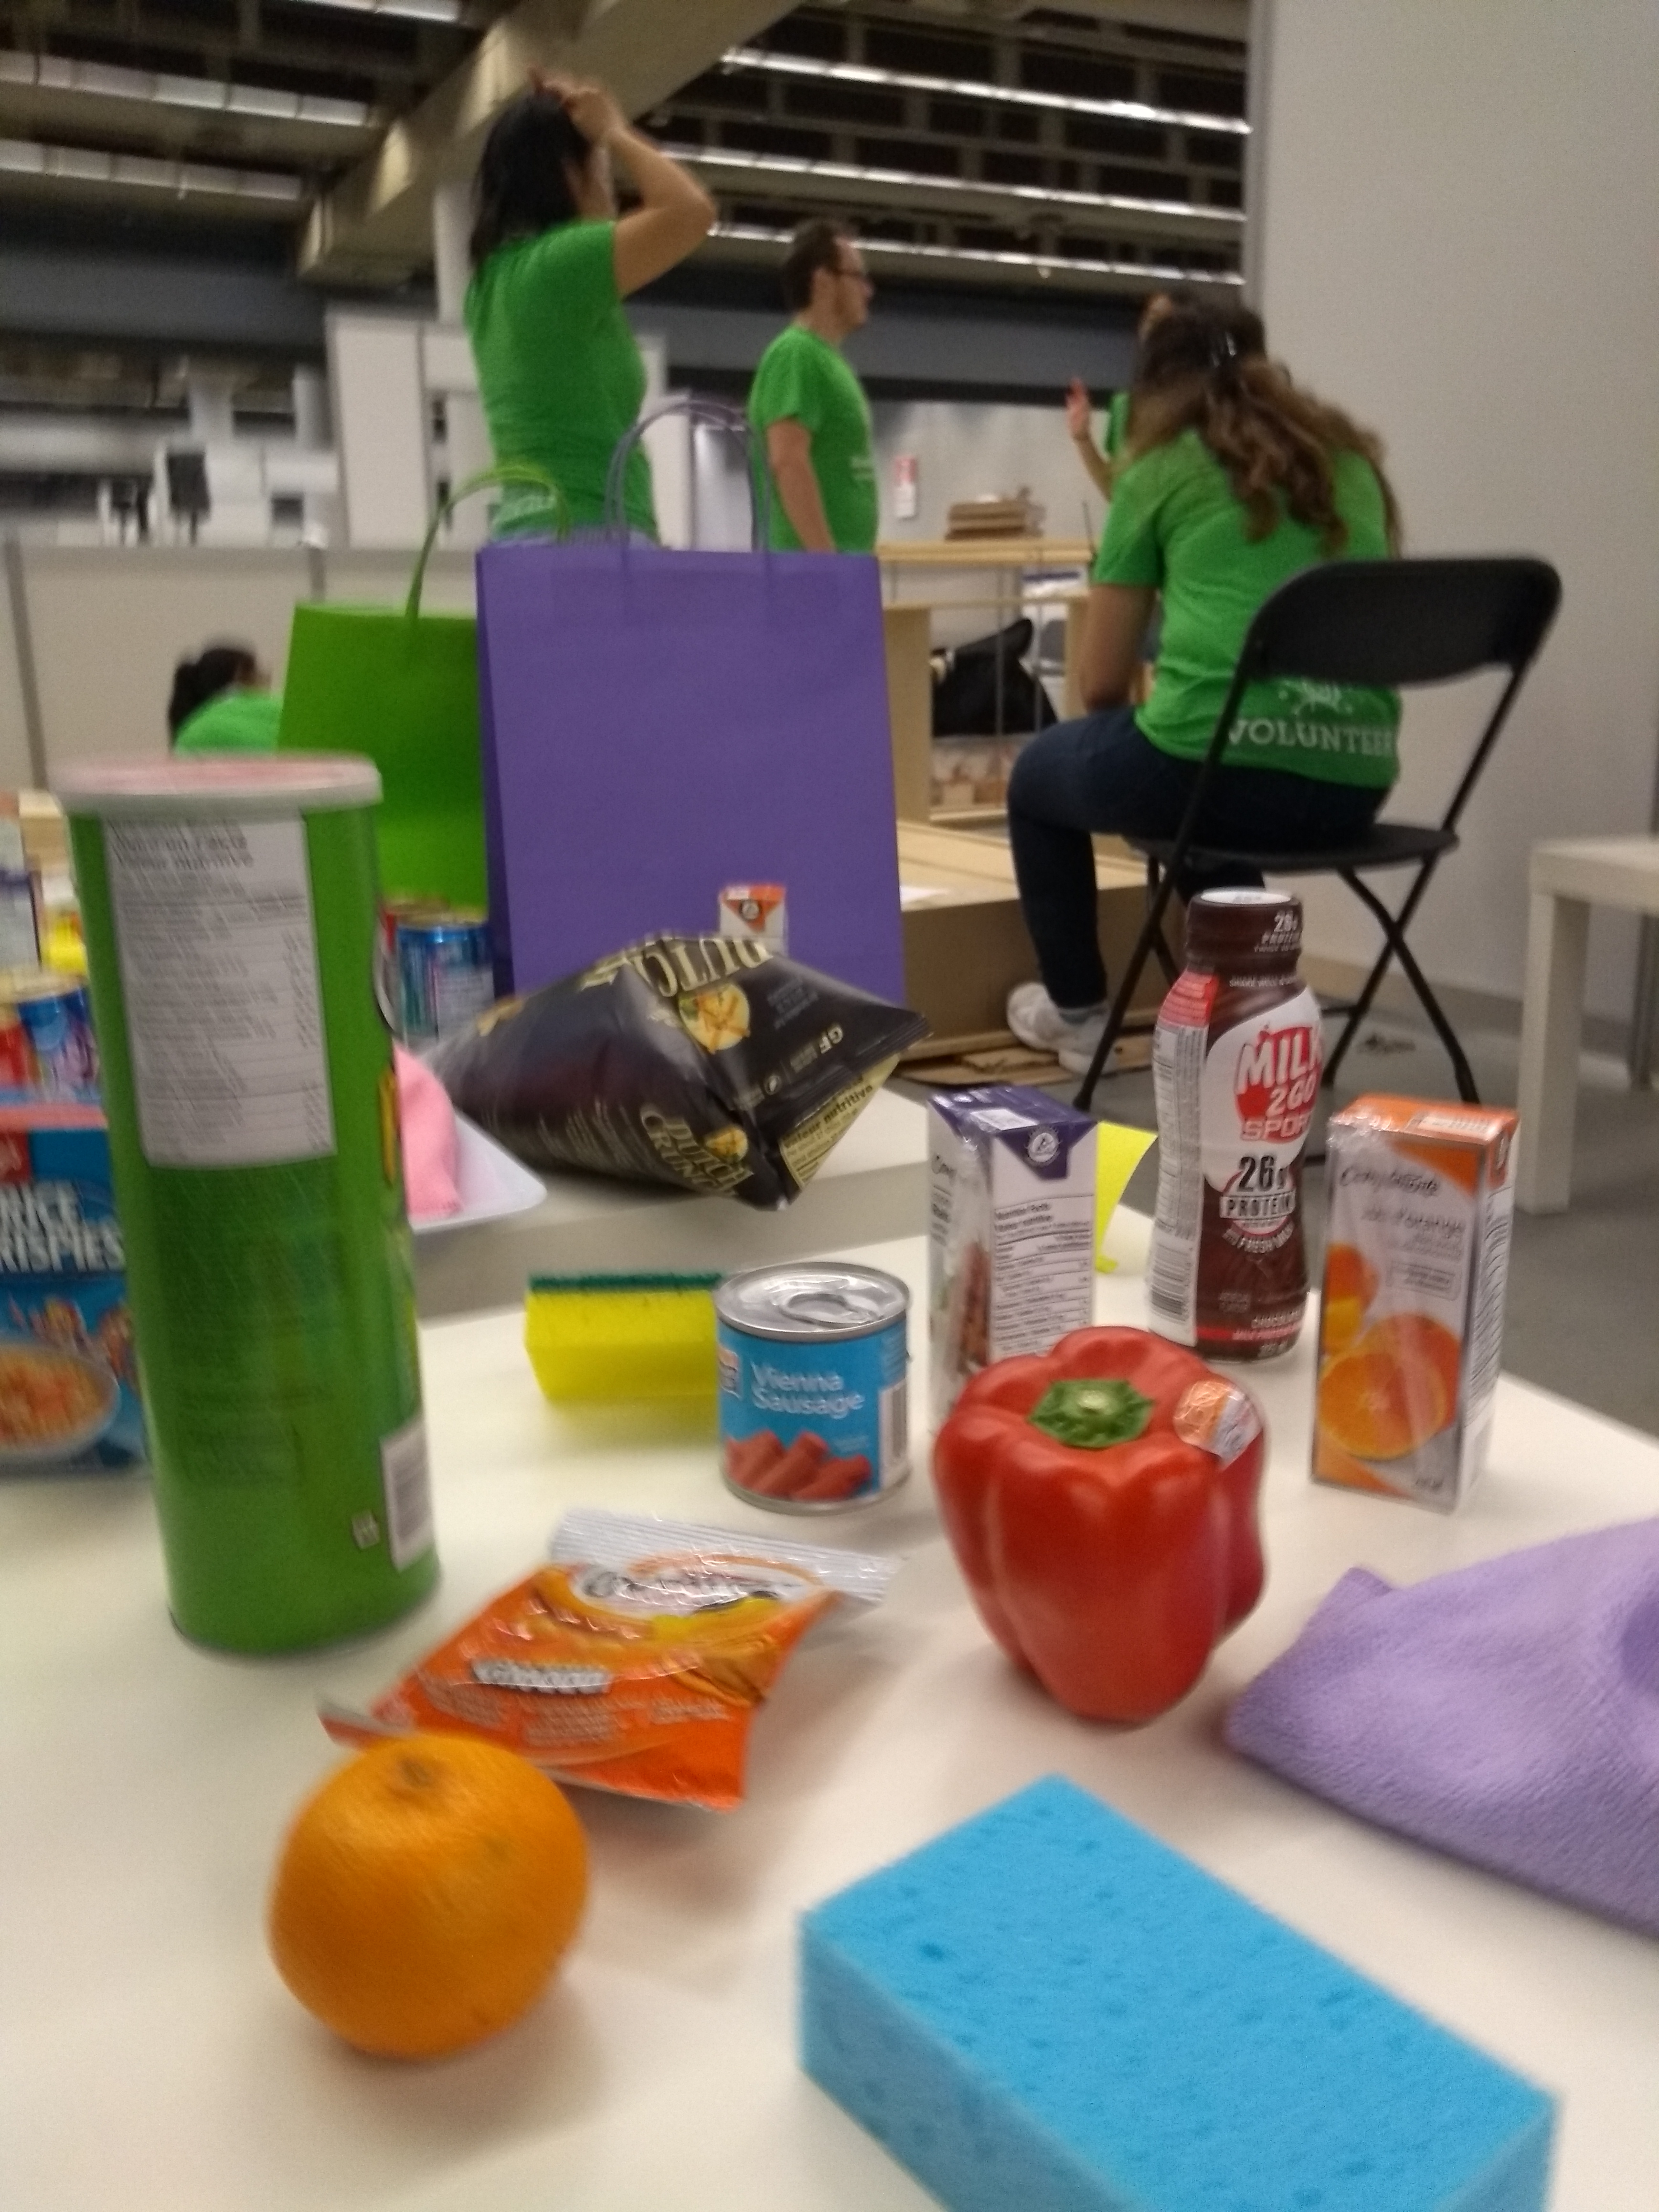cereal: (0, 1101, 132, 1491)
chocolate_drink: (1131, 871, 1337, 1378)
cloth_opl: (1267, 1507, 1659, 1925)
crackers: (335, 1510, 899, 1815)
grape_juice: (924, 1080, 1119, 1383)
orange: (242, 1716, 617, 2080)
orange_juice: (1303, 1083, 1527, 1527)
paprika: (913, 1325, 1286, 1745)
potato_chips: (422, 928, 924, 1228)
pringles: (42, 749, 464, 1669)
sausages: (718, 1256, 917, 1522)
scrubby: (514, 1273, 737, 1409)
sponge_opl: (788, 1761, 1589, 2212)
